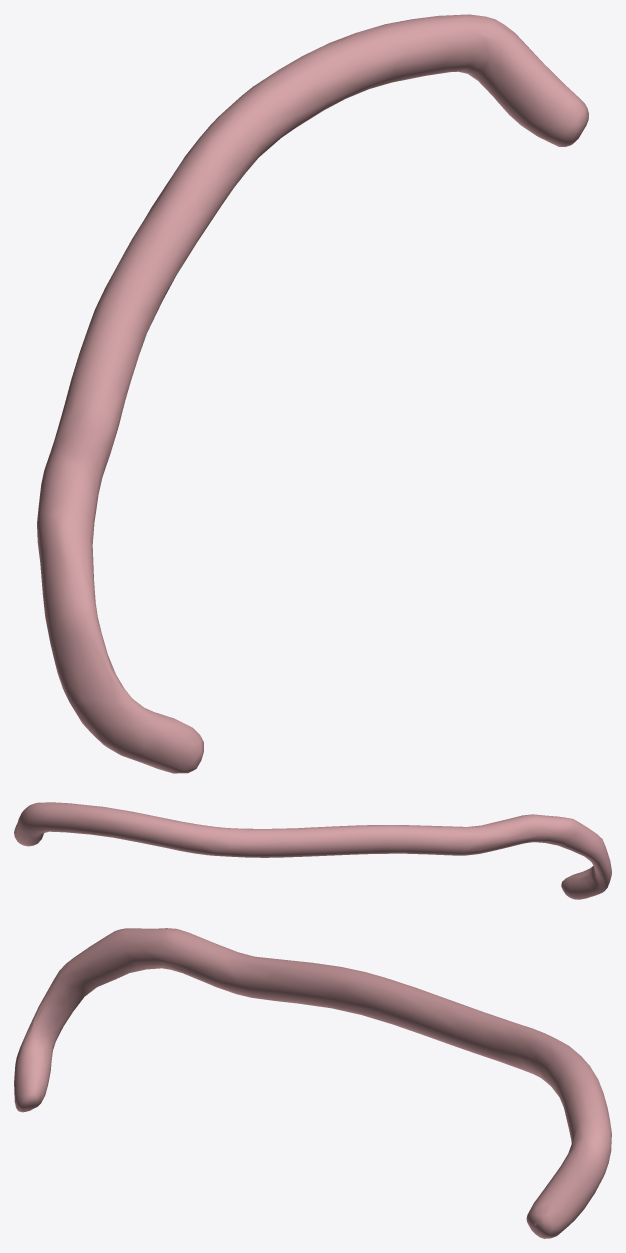
Rendered from fma83733-r_mm3221m.glb.
3 renders of one model, top to bottom at view 1: azimuth 30°, elevation 25°; view 2: azimuth 150°, elevation 25°; view 3: azimuth 270°, elevation 25°, orthographic. The views are drawn at different scales.
Parts seen in each view (by area): view 1: FMA83733-R_MM3221M; view 2: FMA83733-R_MM3221M; view 3: FMA83733-R_MM3221M.
Part boxes in pixels (x1,y1,x2,y2): FMA83733-R_MM3221M: (37, 14, 588, 773); FMA83733-R_MM3221M: (14, 802, 611, 899); FMA83733-R_MM3221M: (14, 928, 611, 1238).
Bounding box in the file's own units: 0.0437 × 0.0157 × 0.0361.
